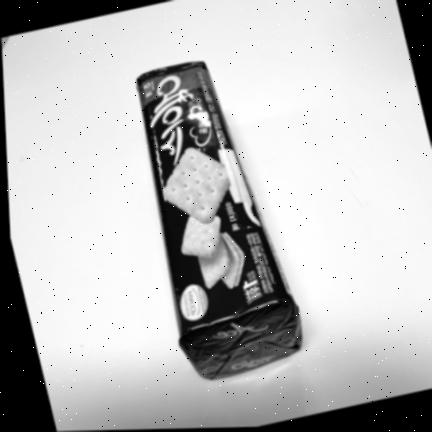cracker_ace: (134, 58, 306, 381)
